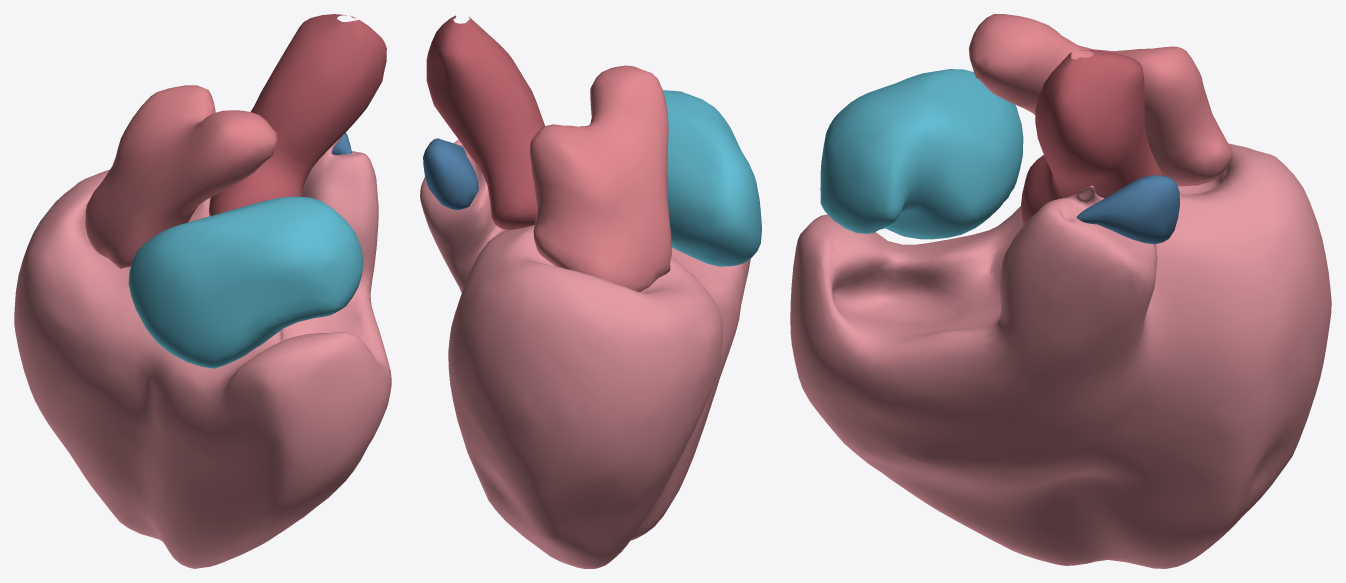
The model's file is frame_25.glb.
3 views of the same model, side by side, from view 1: azimuth 30°, elevation 25°; view 2: azimuth 150°, elevation 25°; view 3: azimuth 270°, elevation 25° (orthographic). The views are drawn at different scales.
Parts seen in each view (by area): view 1: Renderer Node; view 2: Renderer Node; view 3: Renderer Node.
Part boxes in pixels (left/top/right/bottom): Renderer Node: left=14, top=14, right=391, bottom=568; Renderer Node: left=420, top=15, right=761, bottom=568; Renderer Node: left=790, top=14, right=1331, bottom=568.
Bounding box in the file's own units: 106 × 162 × 131.
